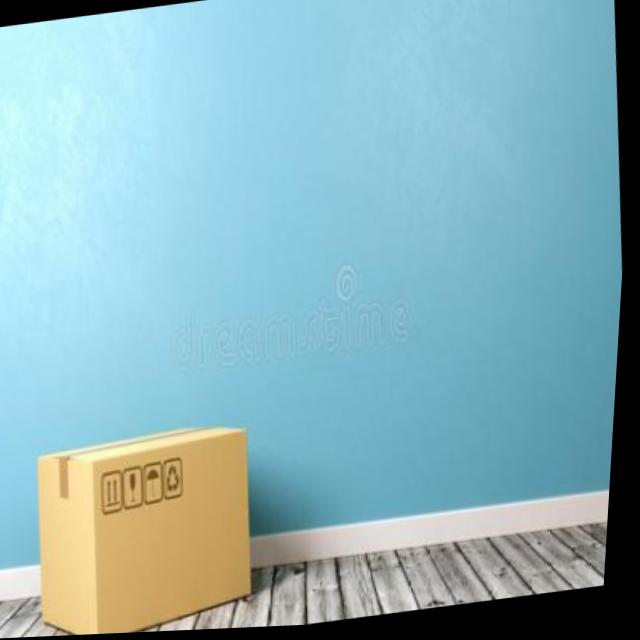box: (22, 414, 284, 638)
